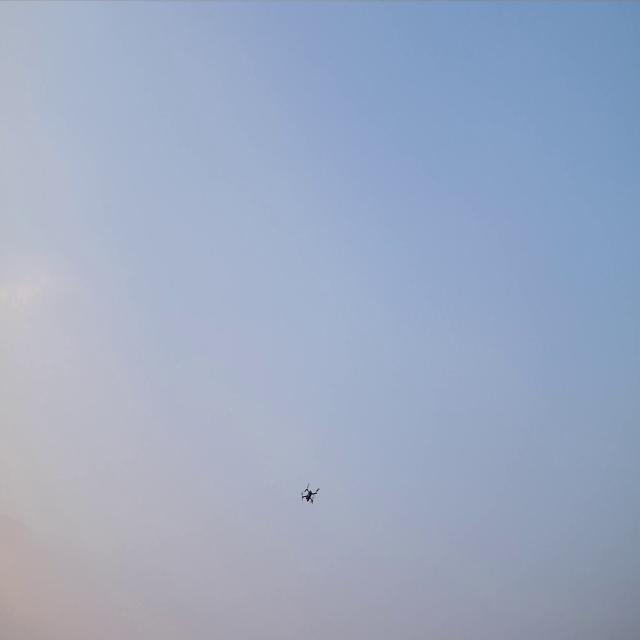UAV: (300, 481, 320, 505)
